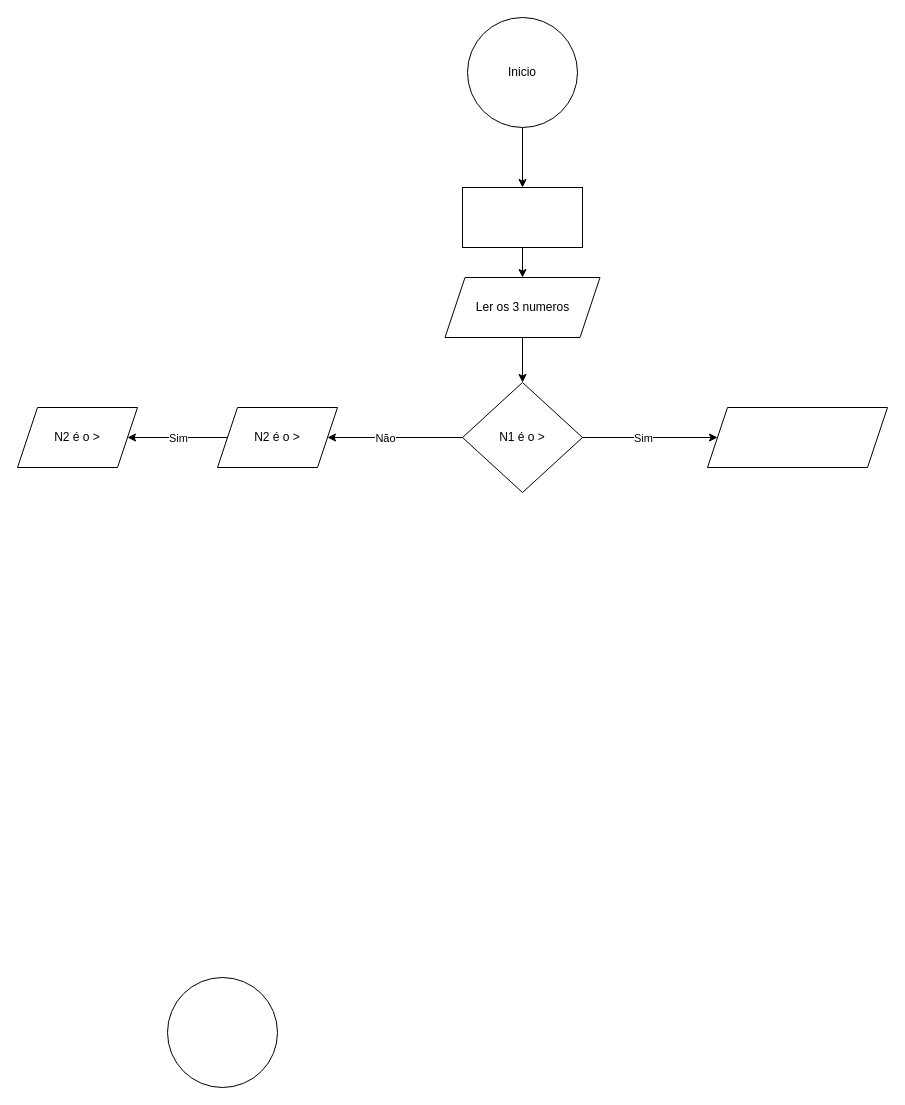
This 905x1105 diagram has some shape labels left out. The shapes that lost their labels are listed below. From the top down, each one's centre as x and y in pixels, then its label:
(522,217): gere_3_numeros
(797,437): Escrever "N1"
(222,1032): Fim
